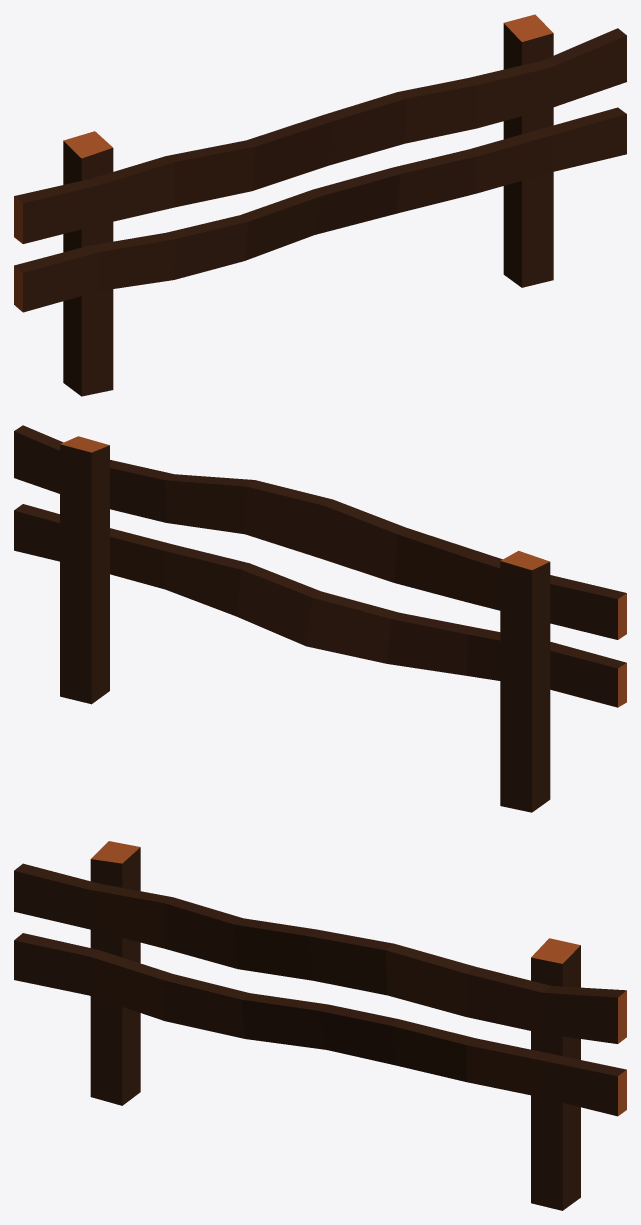
File: cloture_02.fbx
3 renders of one model, top to bottom at view 1: azimuth 30°, elevation 25°; view 2: azimuth 150°, elevation 25°; view 3: azimuth 330°, elevation 25°, orthographic.
Parts seen in each view (by area): view 1: Cube; view 2: Cube; view 3: Cube.
Part boxes in pixels (x1,y1,x2,y2): Cube: (14,14,626,396); Cube: (14,425,626,812); Cube: (14,841,626,1210).
Bounding box in the file's own units: 1018 × 411 × 103.
